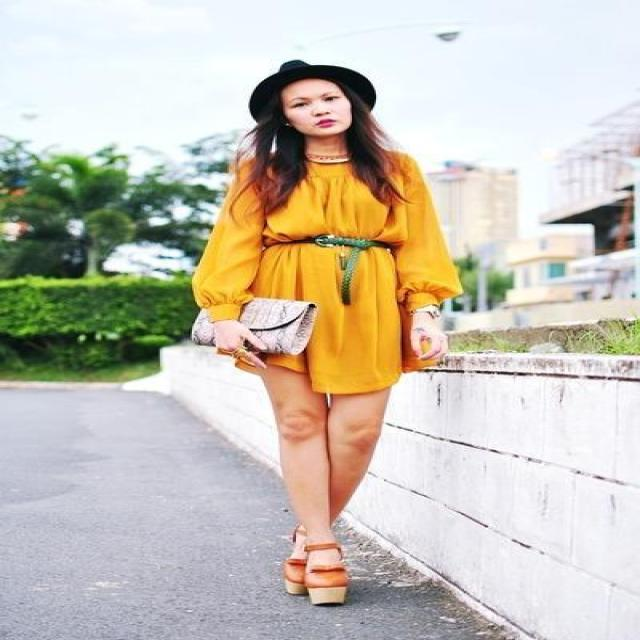bag: (192, 295, 349, 354)
dress: (192, 152, 464, 404)
shoe: (282, 532, 356, 595)
